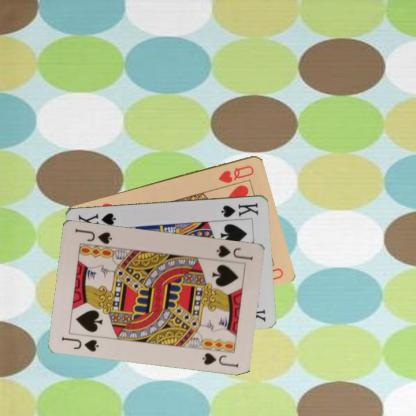Js: (214, 242, 254, 262), (60, 334, 100, 353)
Ks: (218, 200, 260, 218)
Qh: (216, 162, 256, 184)
